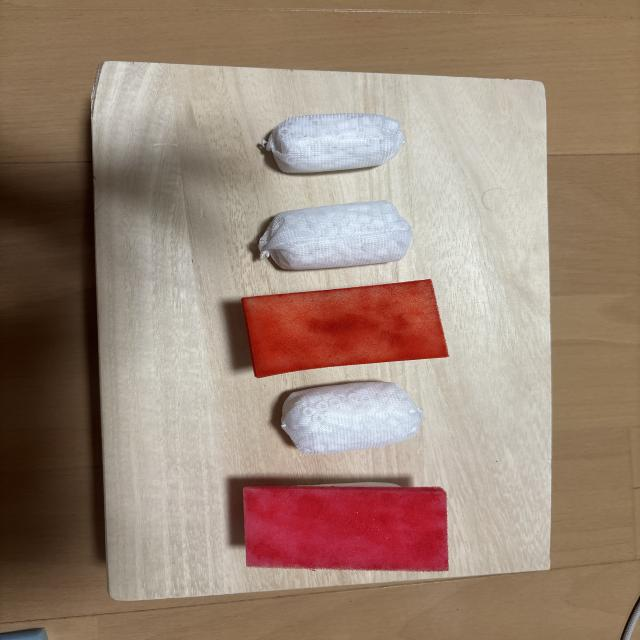NG: (258, 200, 412, 270), (282, 382, 422, 454), (263, 113, 404, 173)
maguro: (243, 483, 448, 571)
salmon: (242, 280, 448, 378)
